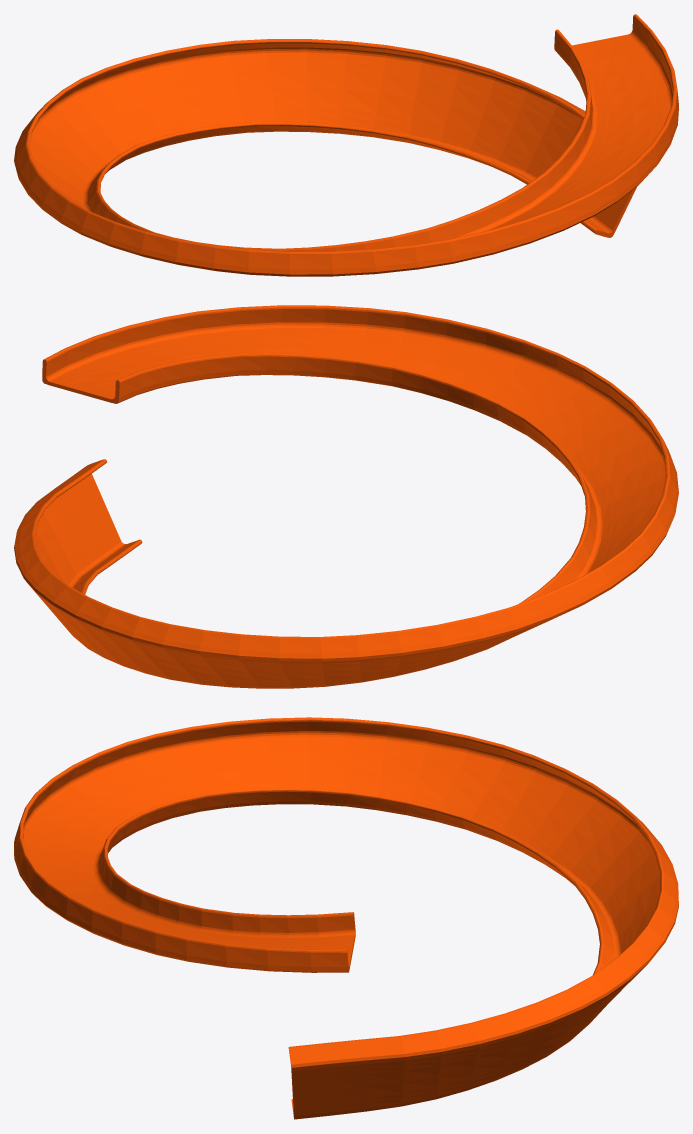
The model's file is Final Twist.FBX.
The picture shows the model from 3 angles, top to bottom: view 1: azimuth 30°, elevation 25°; view 2: azimuth 150°, elevation 25°; view 3: azimuth 270°, elevation 25°; orthographic projection. The views are drawn at different scales.
Visible parts, largest first — view 1: Final Twist; view 2: Final Twist; view 3: Final Twist.
Boxes of the visible parts, box(x1,y1,x2,y2) form: Final Twist: box(14, 14, 678, 276); Final Twist: box(14, 305, 678, 688); Final Twist: box(14, 717, 678, 1119).
Size of the model in its own units: 1831 by 583 by 1802.
